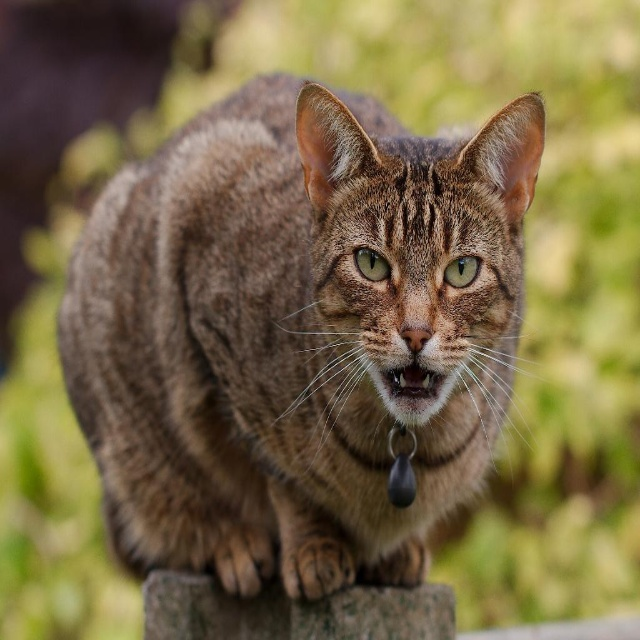Lynx: (49, 71, 551, 607)
